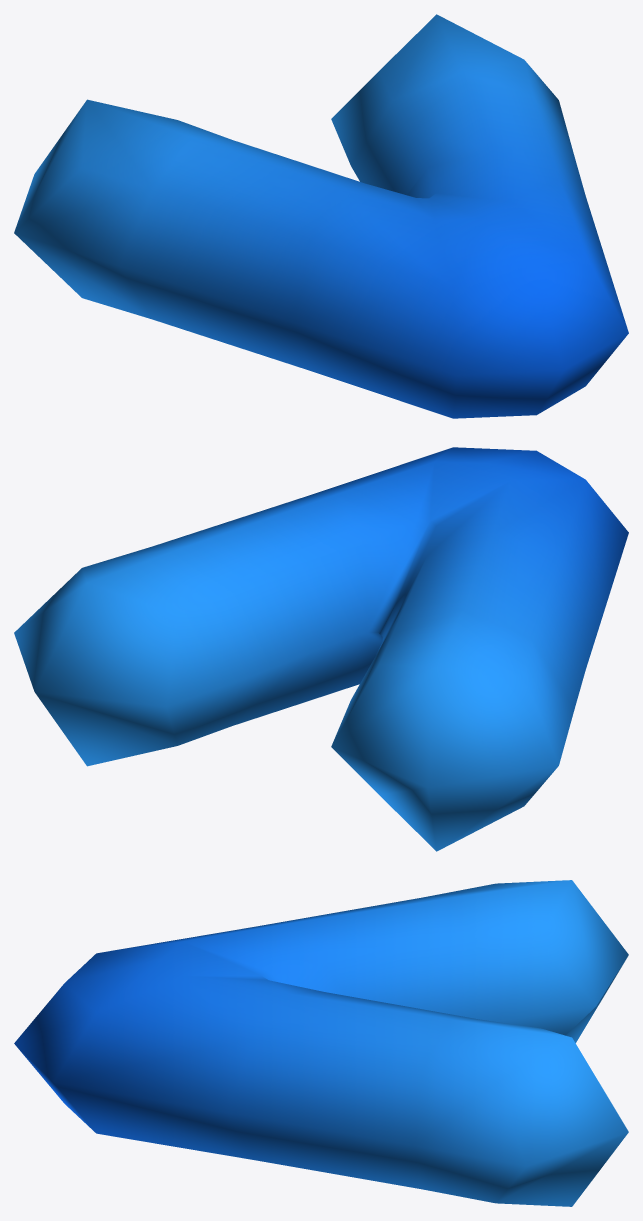
File: CartoonFont_V.FBX
3 views of the same model, one above another, from view 1: azimuth 30°, elevation 25°; view 2: azimuth 150°, elevation 25°; view 3: azimuth 270°, elevation 25° (orthographic). The views are drawn at different scales.
Visible parts, largest first — view 1: V; view 2: V; view 3: V.
Boxes of the visible parts, x1=… form: V: x1=14, y1=14, x2=628, y2=418; V: x1=14, y1=447, x2=628, y2=851; V: x1=14, y1=880, x2=628, y2=1206.
Size of the model in its own units: 29.95 by 9.64 by 31.71.
Materials: 1 (1 with a texture image).
